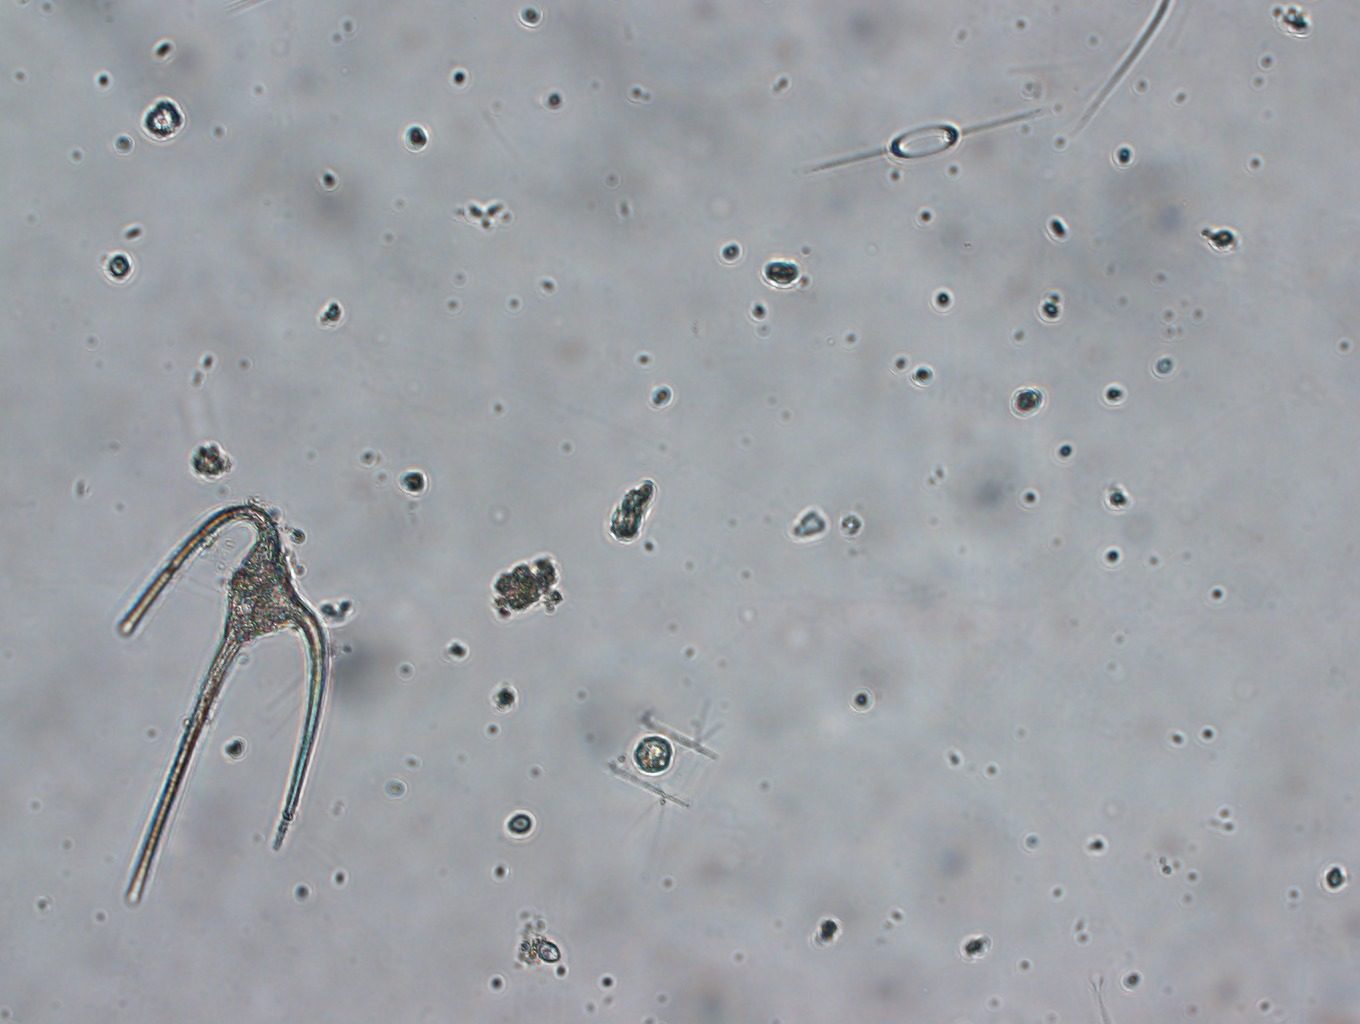ceratium trichoceros: (105, 497, 330, 910)
chaetoceros: (592, 677, 725, 856), (796, 97, 1053, 182)
